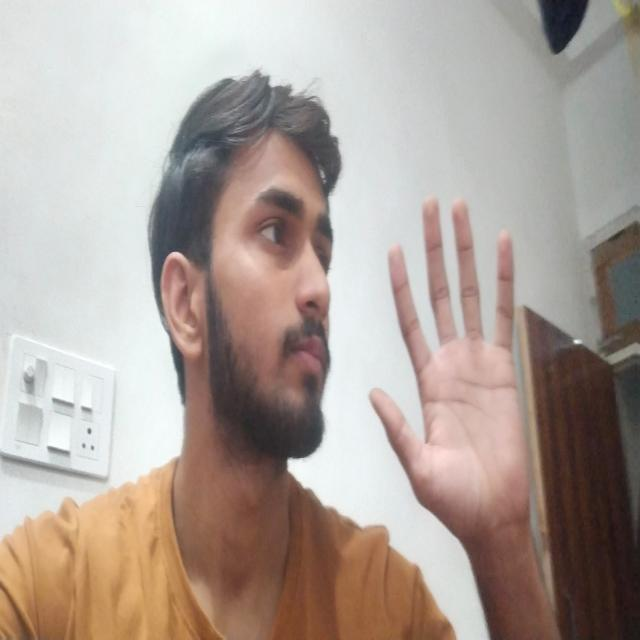hello: (344, 163, 586, 590)
